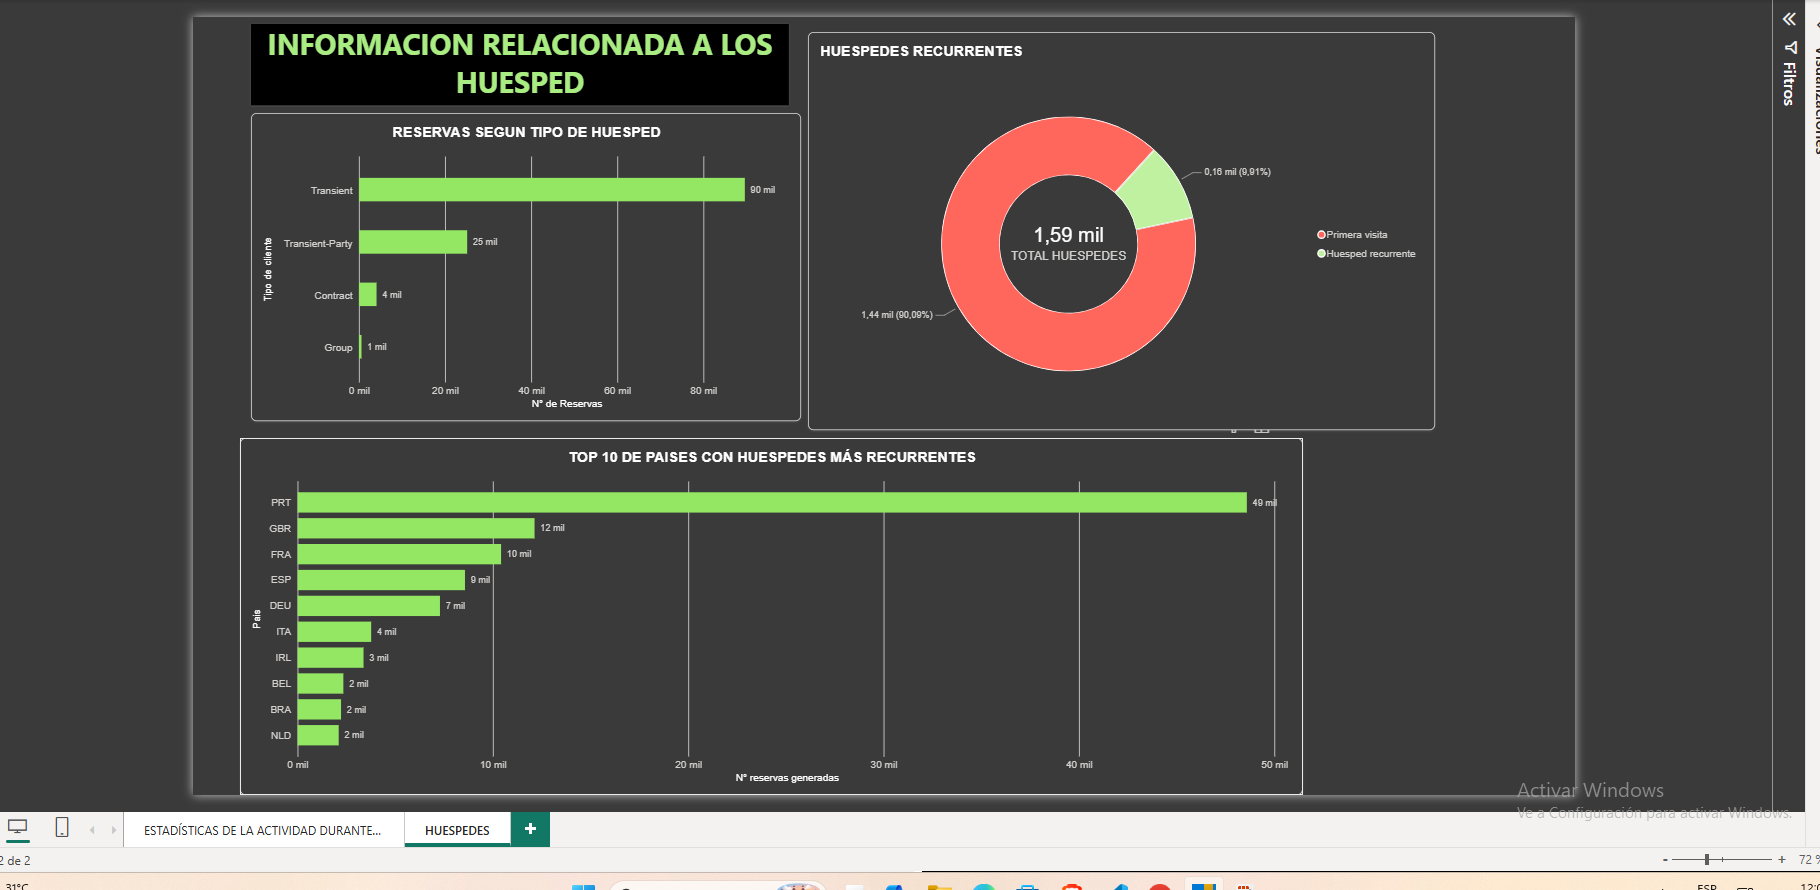

This screenshot's page, from the dashboard's own definition file:
{"tool":"powerbi","page":{"name":"HUESPEDES","canvas":[1920,1080],"ordinal":1},"visuals":[{"type":"barChart","title":"RESERVAS SEGUN TIPO DE HUESPED","fields":{"Category":["public dim_customers.customer_type"],"Y":["public fact_reservations.TOTAL_RESERVAS"]},"box":[80.6,133.3,763.9,427.8],"z":0},{"type":"barChart","title":"TOP 10 DE PAISES CON HUESPEDES MÁS RECURRENTES","fields":{"Category":["public dim_customers.country"],"Y":["public fact_reservations.TOTAL_RESERVAS"]},"box":[65.3,584.7,1476.4,495.8],"z":1000},{"type":"donutChart","title":"HUESPEDES RECURRENTES","fields":{"Category":["public dim_customers.Es_frecuente"],"Y":["CountNonNull(public dim_customers.Es_frecuente)"]},"box":[854.2,20.8,870.8,552.8],"z":2000},{"type":"textbox","title":"INFORMACION RELACIONADA A LOS HUESPED","box":[80.6,9.7,747.2,112.5],"z":3000}]}

Visuals, with their boxes on the page's 1920x1080 design canvas (x1, y1, x2, y2). These are canvas units, not pixel positions in the 1820x890 screenshot, which may show the page scaled, cropped or inside an application window:
"RESERVAS SEGUN TIPO DE HUESPED" barChart: select_region(81, 133, 844, 561)
"TOP 10 DE PAISES CON HUESPEDES MÁS RECURRENTES" barChart: select_region(65, 585, 1542, 1080)
"HUESPEDES RECURRENTES" donutChart: select_region(854, 21, 1725, 574)
"INFORMACION RELACIONADA A LOS HUESPED" textbox: select_region(81, 10, 828, 122)
